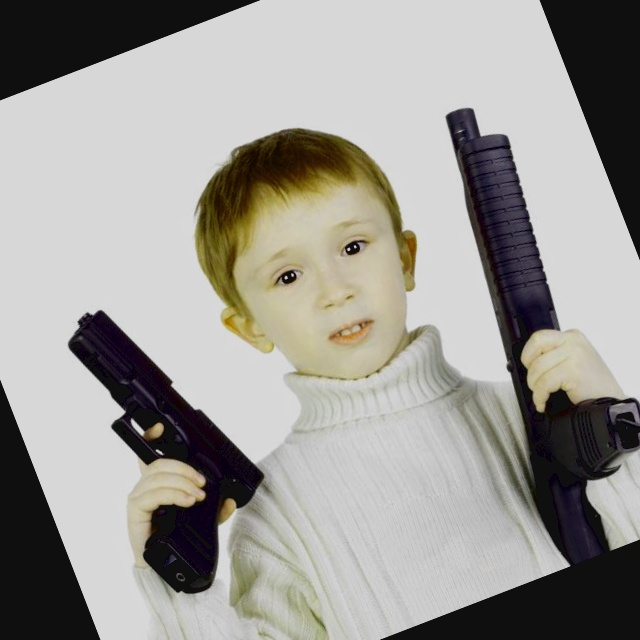gun: (375, 71, 640, 559), (29, 262, 307, 620)
